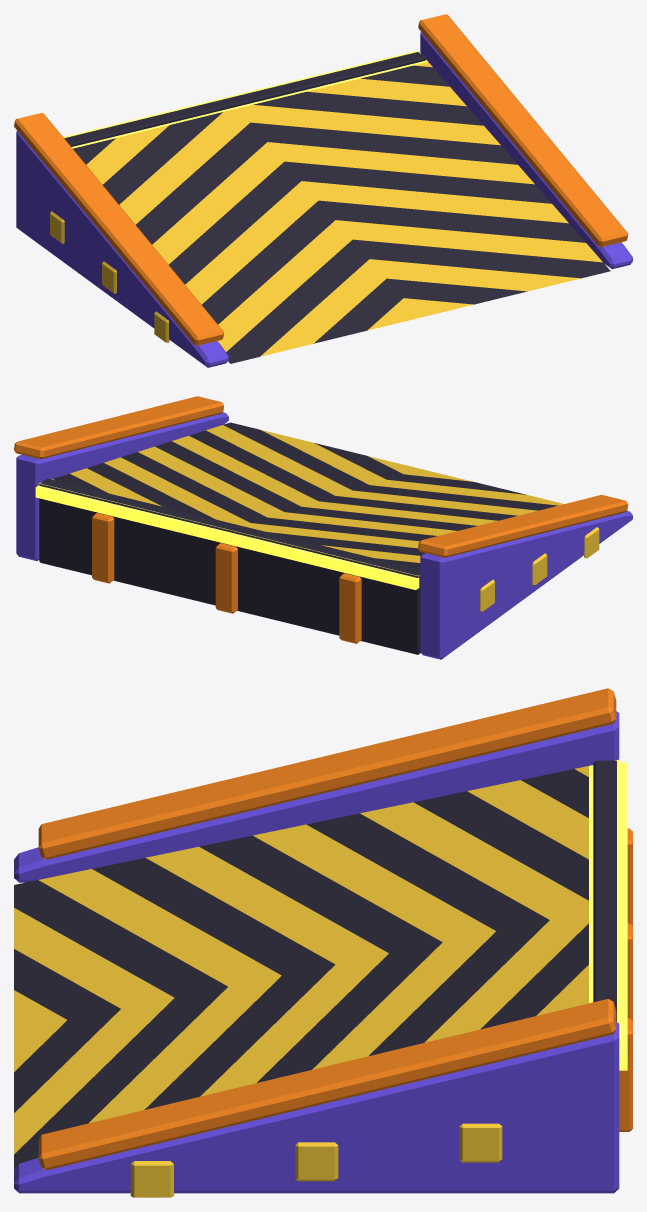
The model's file is jump_ramp.glb.
The picture shows the model from 3 angles, top to bottom: view 1: azimuth 30°, elevation 25°; view 2: azimuth 150°, elevation 25°; view 3: azimuth 270°, elevation 25°; orthographic projection. The views are drawn at different scales.
Visible parts, largest first — view 1: RAMP_SURFACE, jump_ramp; view 2: jump_ramp, RAMP_SURFACE; view 3: RAMP_SURFACE, jump_ramp.
Part boxes in pixels (left/top/right/bottom): RAMP_SURFACE: left=64, top=51, right=610, bottom=363; jump_ramp: left=14, top=14, right=632, bottom=367; jump_ramp: left=14, top=396, right=632, bottom=659; RAMP_SURFACE: left=38, top=422, right=563, bottom=576; RAMP_SURFACE: left=14, top=759, right=619, bottom=1169; jump_ramp: left=14, top=688, right=632, bottom=1197.
Bounding box in the file's own units: 9.12 × 2.27 × 7.16.
